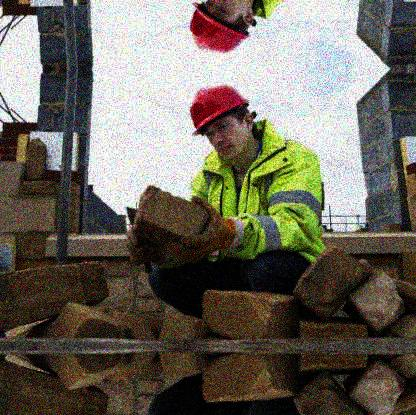helmet: (190, 85, 255, 159), (187, 1, 255, 56)
